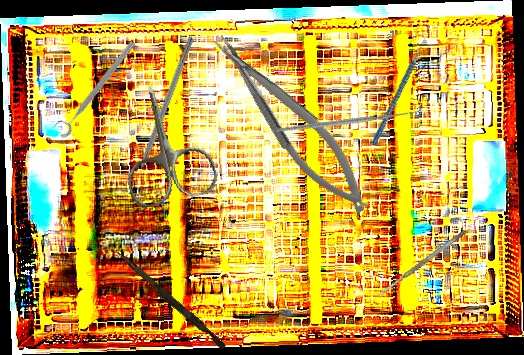Chopper: (340, 29, 456, 146)
Fixation Ring: (50, 34, 139, 141)
Hook Surgical: (275, 56, 423, 180), (127, 35, 196, 195)
Iris Scissors: (107, 75, 221, 211)
Needle Holder: (204, 19, 381, 226)
Pusher: (112, 250, 229, 350)
Spatula Surgical: (374, 229, 467, 299)
